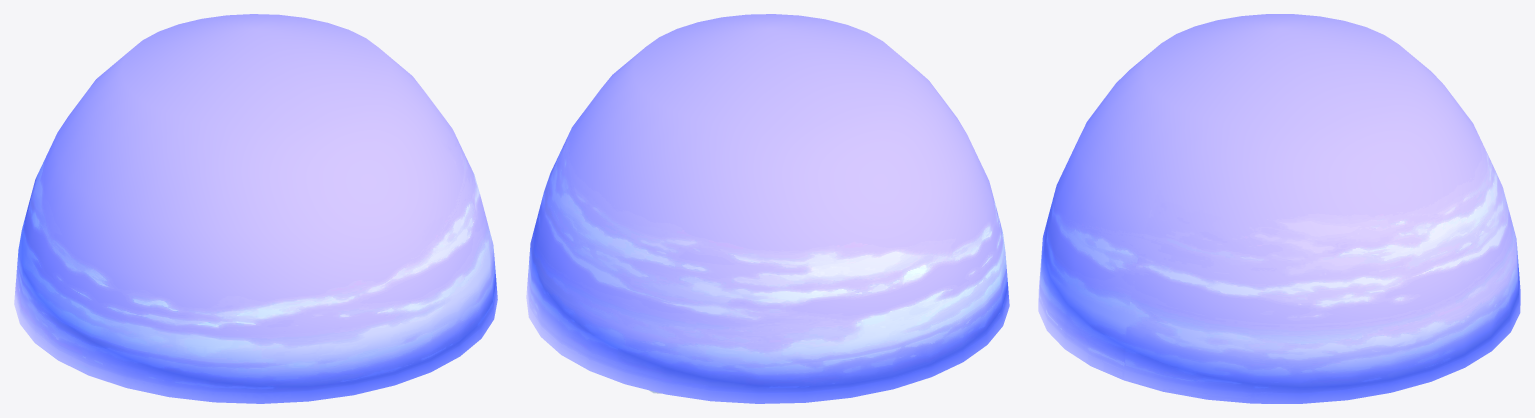
The model's file is Field_Of_Flowers.glb.
3 views of the same model, side by side, from view 1: azimuth 30°, elevation 25°; view 2: azimuth 150°, elevation 25°; view 3: azimuth 270°, elevation 25° (orthographic).
Parts seen in each view (by area): view 1: Sky_mat0_0; view 2: Sky_mat0_0; view 3: Sky_mat0_0.
Part boxes in pixels (x1,y1,x2,y2): Sky_mat0_0: (14,14,497,403); Sky_mat0_0: (526,14,1009,403); Sky_mat0_0: (1038,14,1520,403).
Size of the model in its own units: 308 by 246 by 308.
Materials: 9 (9 with a texture image).
